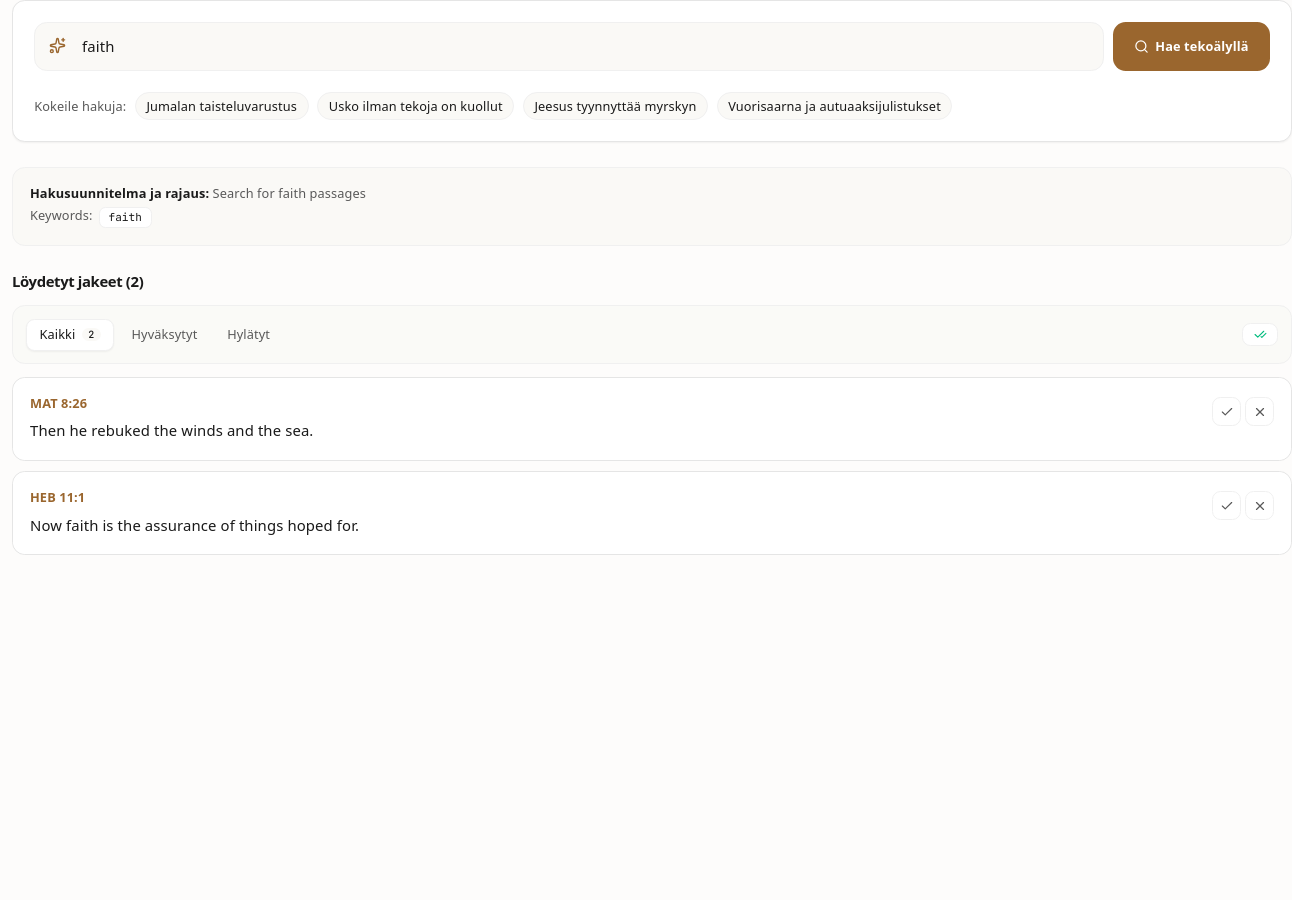
Test: AiSemanticSearch state retention › verse curation and triage integration › rejects remaining unclassified verses and removes them permanently upon commit
Note: Accept verse v1 only
Click the 1st button named "Hyväksy jae". click: click(1227, 412)
box: [1212,397,1241,426]
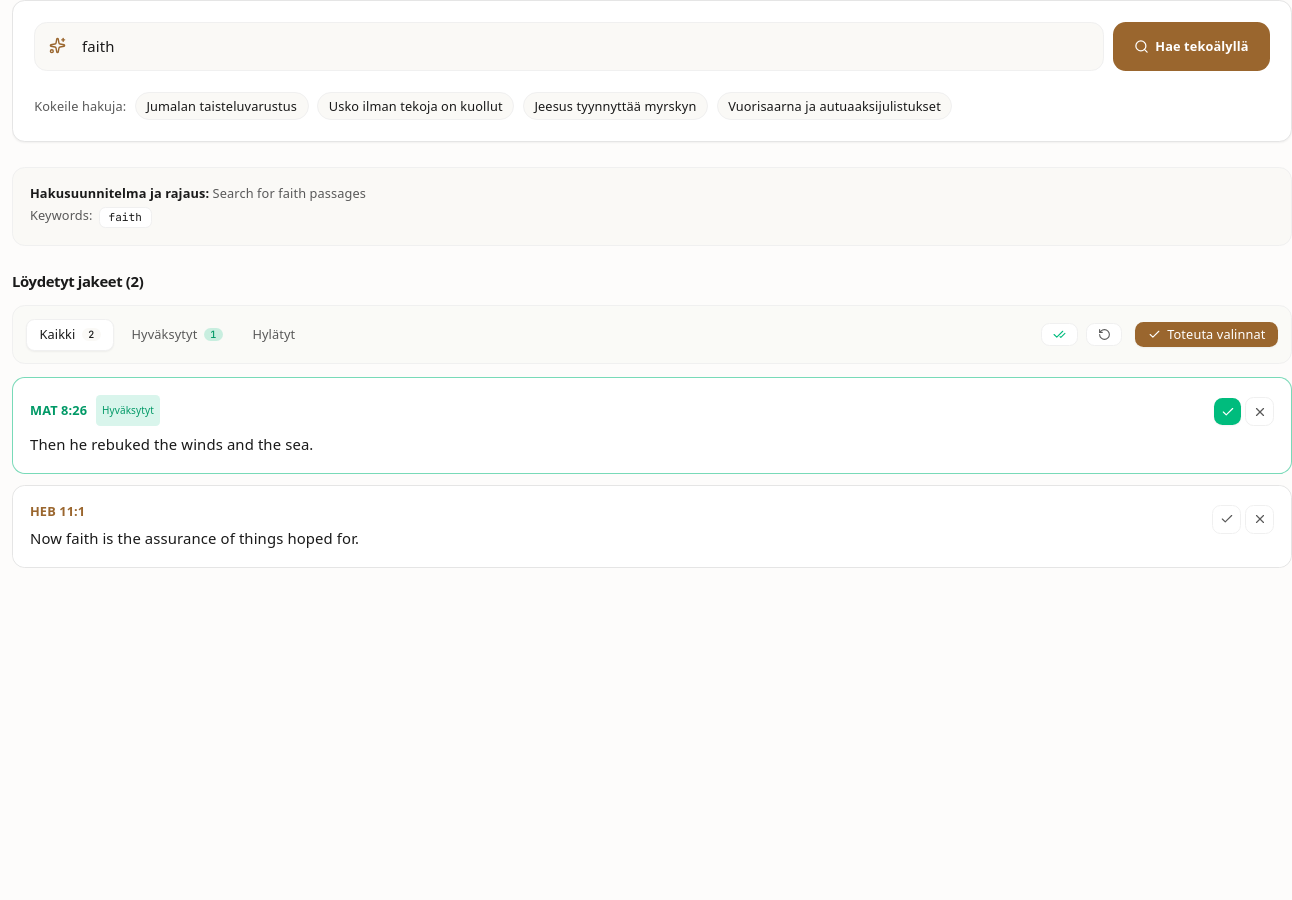
Click the button "Toteuta valinnat". click: click(1207, 335)
box: [1135,322,1278,348]
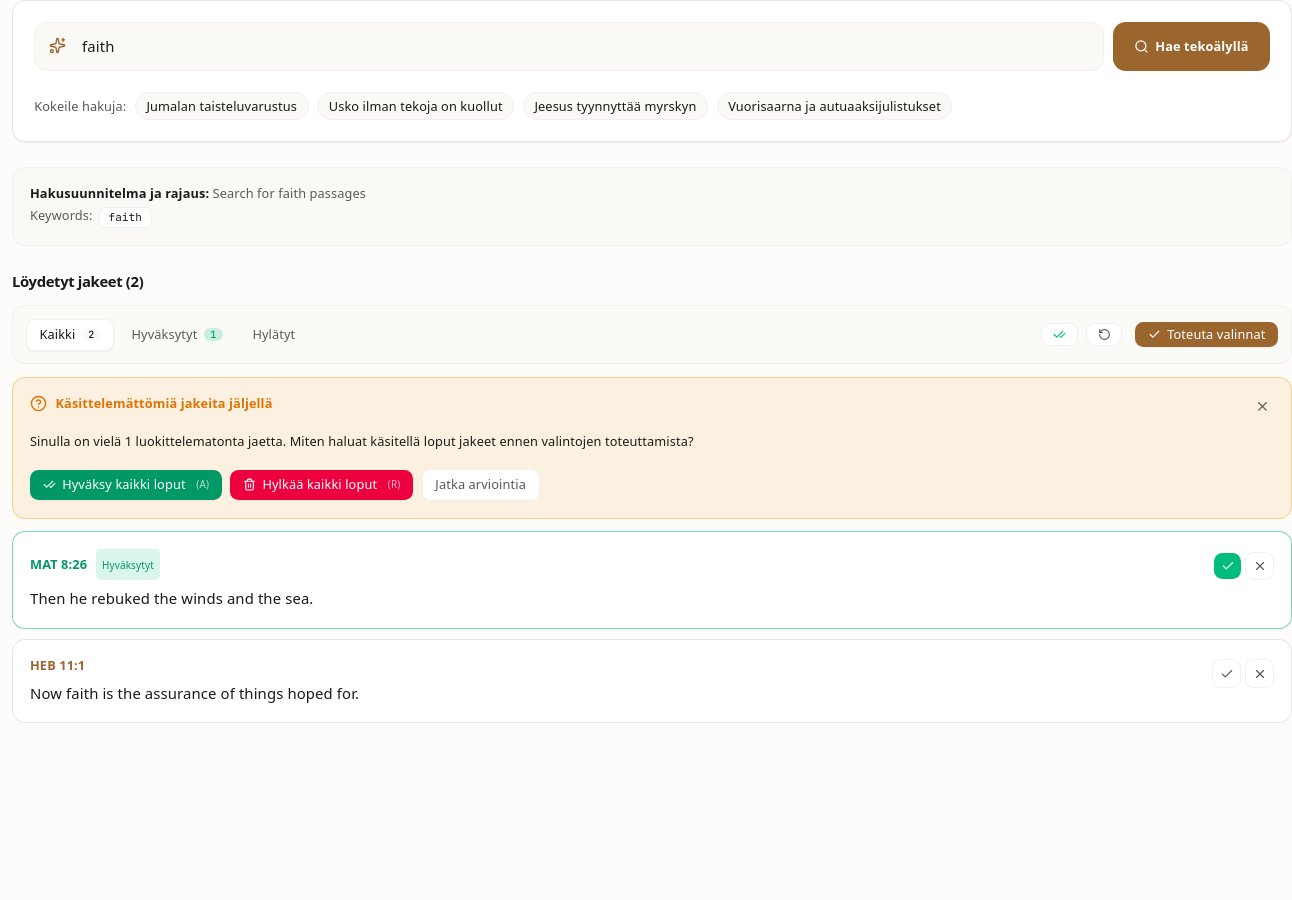
Expected: the button "Hylkää kaikki loput (R)" is shown
Click the button "Hylkää kaikki loput (R)". click: click(322, 485)
box: [230,470,413,500]
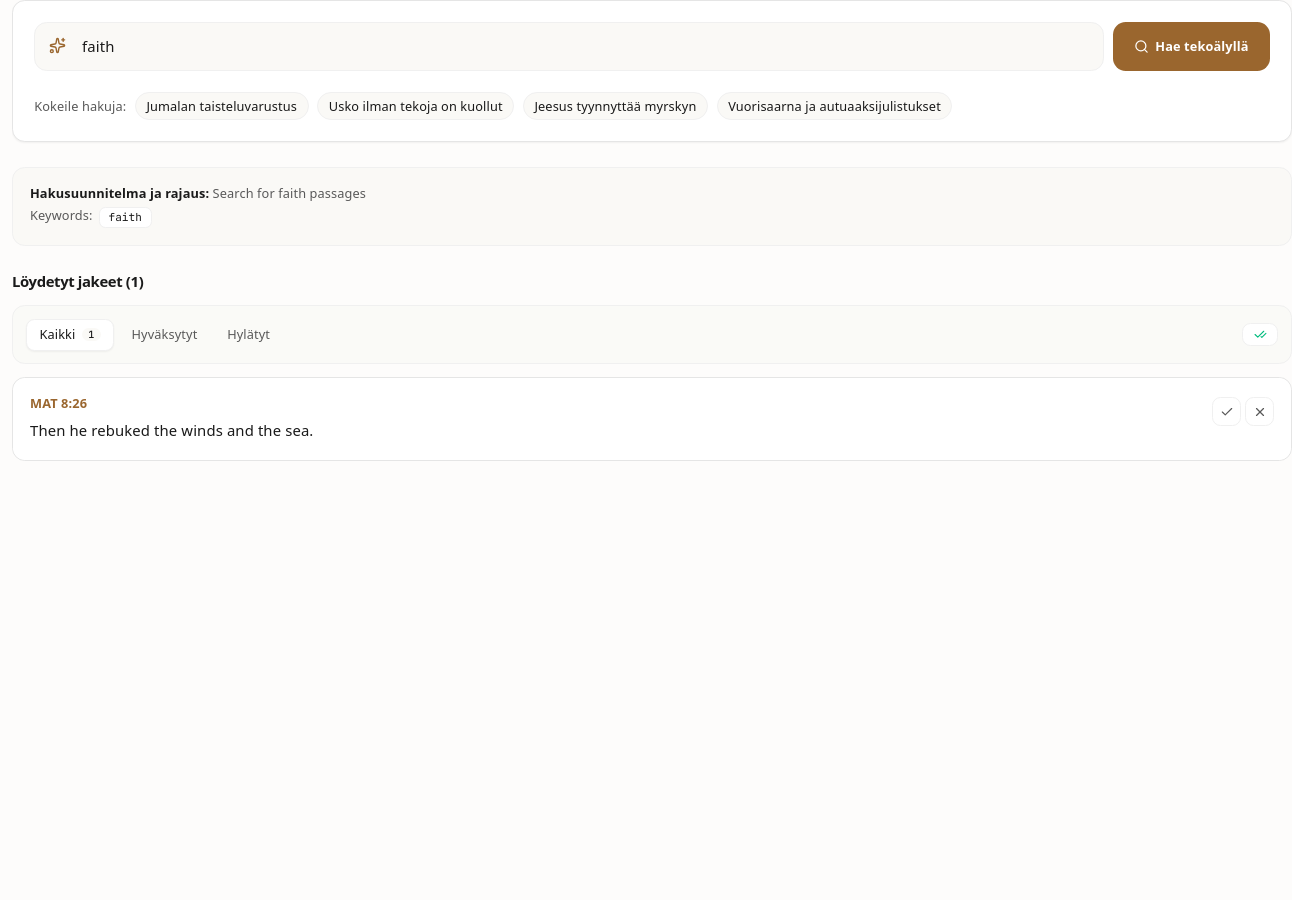
Expected: the element with test id "curated-verse-v1" is shown, [12,377,1291,461]
Expected: the element with test id "curated-verse-v2" is gone
